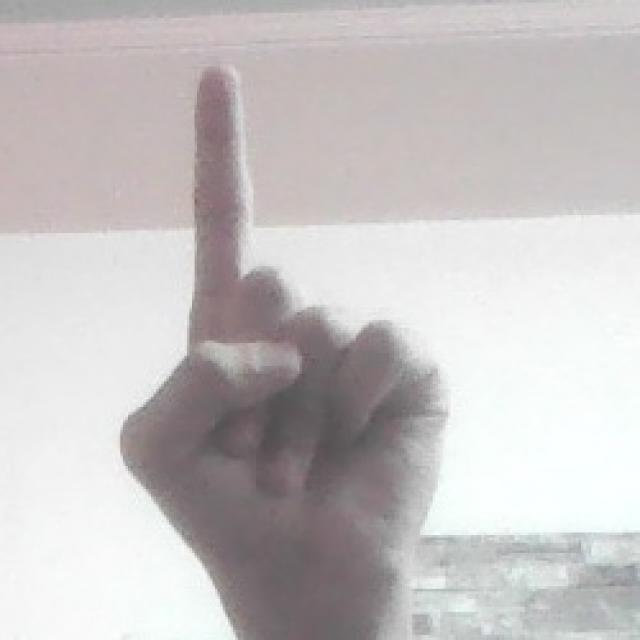Numeric-1: (120, 61, 451, 624)
